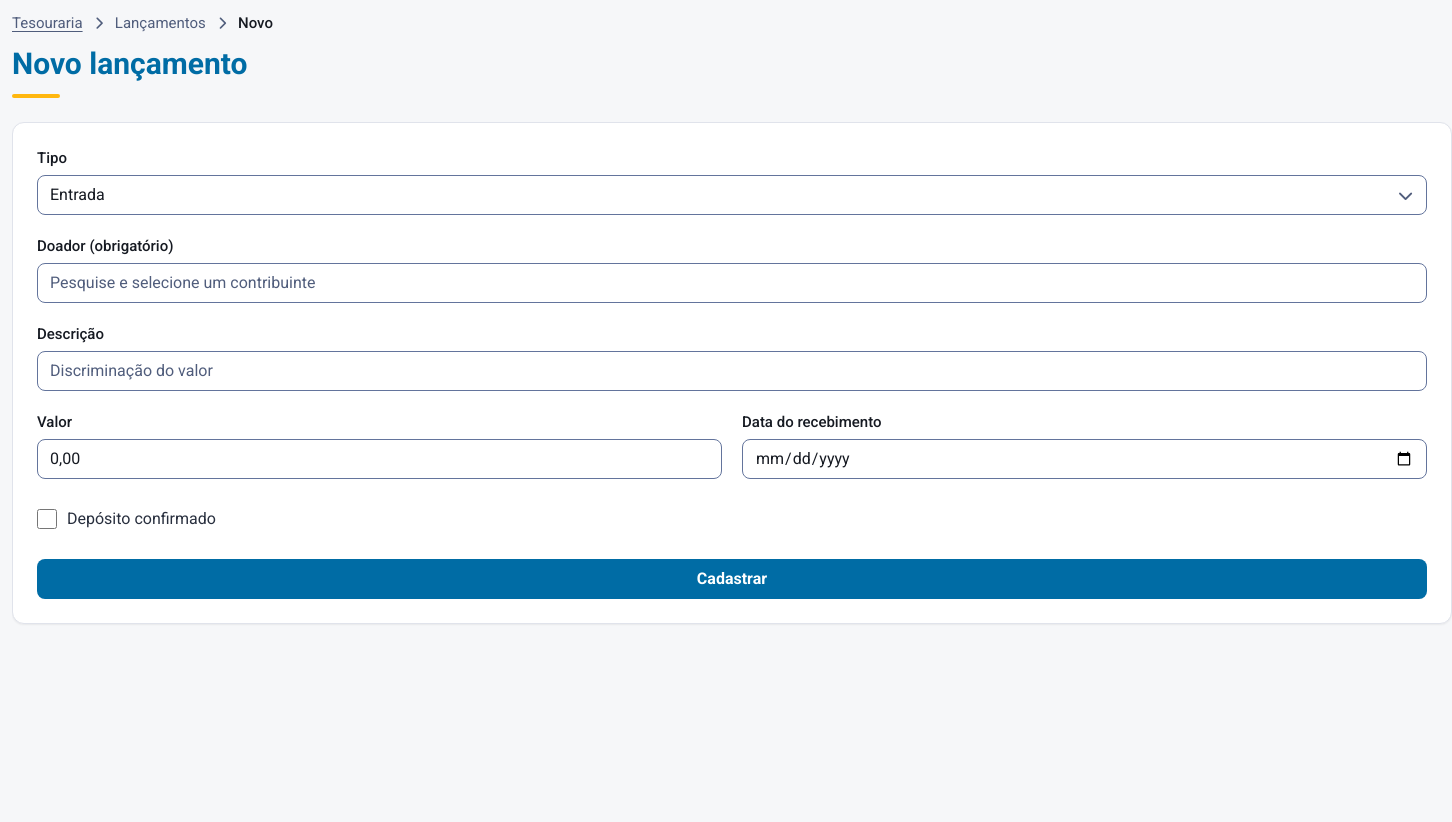
Test case: novo lançamento counterpart integration › submits only the ID of a confirmed suggestion
Type "CLICIO FOGACA" into the dropdown with id "contraparteId". click: coordinates (732, 283)
box: [37,263,1427,303]
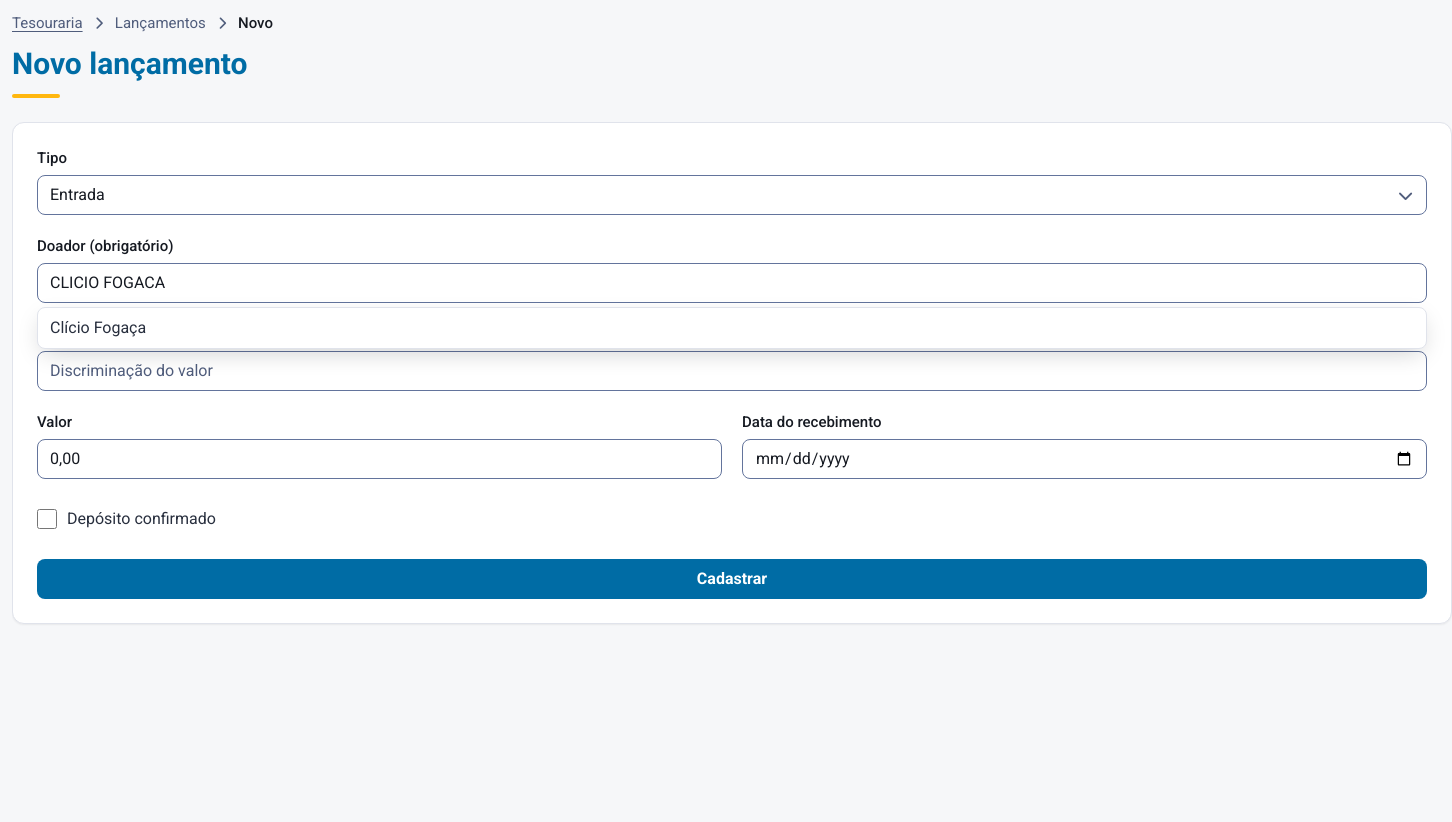
Click the option "Clício Fogaça". click: coordinates (98, 328)
box: [38,308,1426,348]
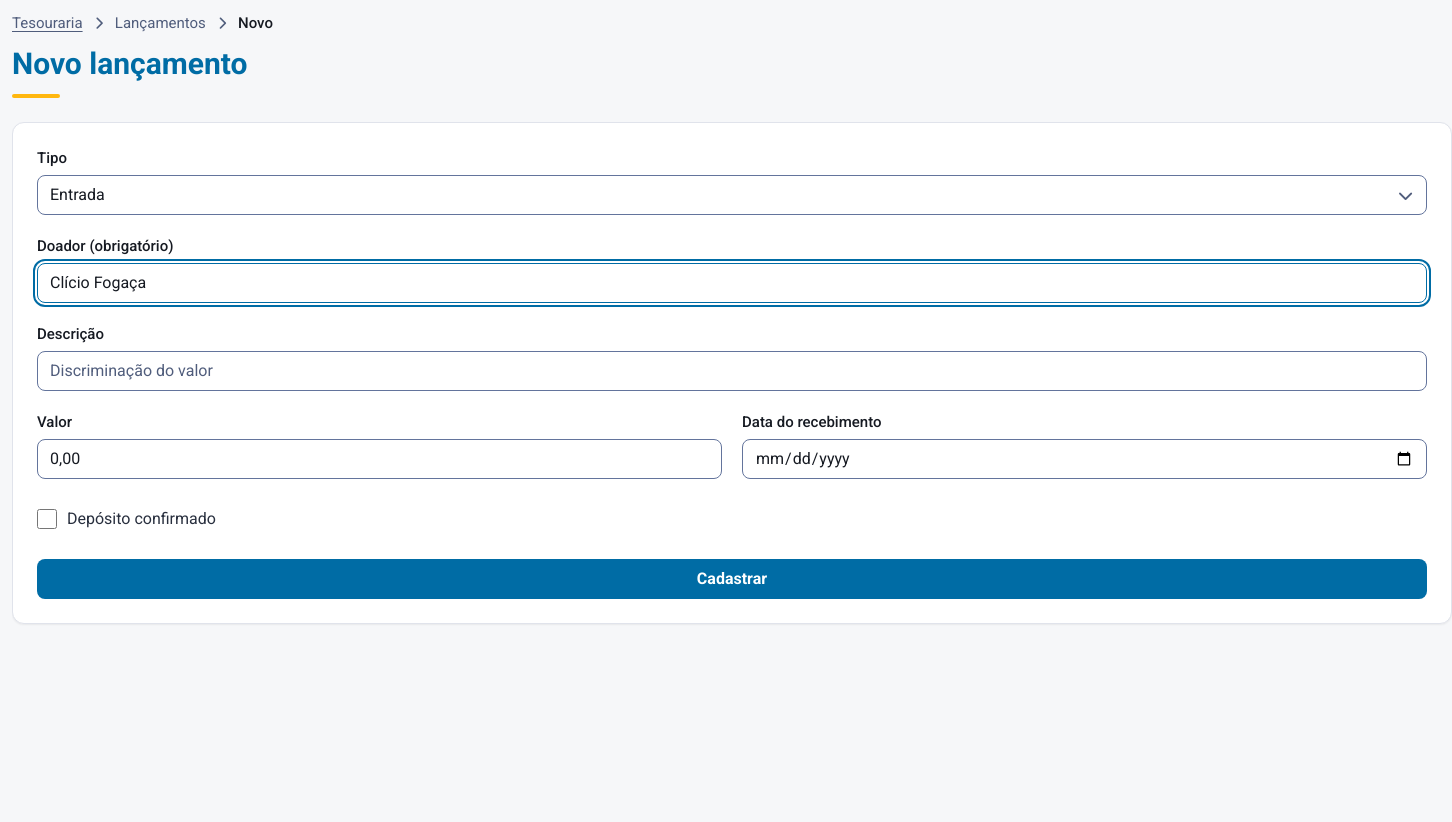
Expected: the dropdown with id "contraparteId" holds "Clício Fogaça", [37,263,1427,303]
